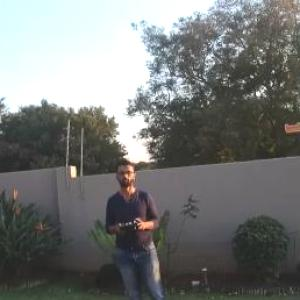follow: (96, 152, 174, 299)
